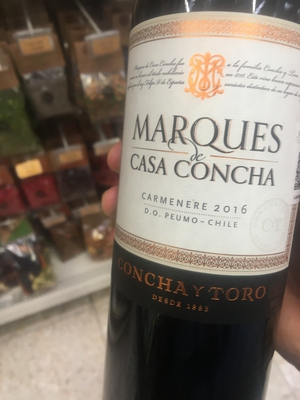marques de casa concha carmenere: (94, 1, 300, 368)
